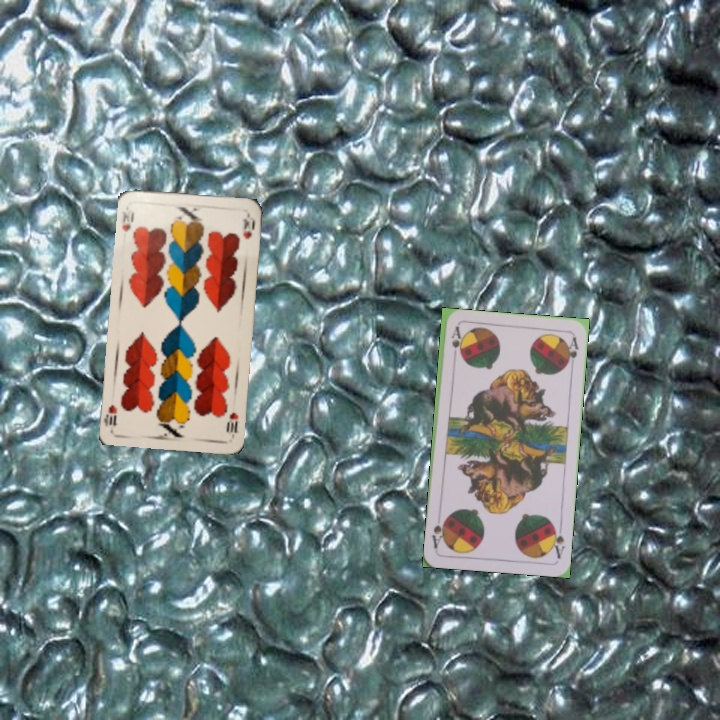H10: (222, 409, 241, 440), (118, 206, 136, 234)
SA: (548, 520, 568, 561), (447, 323, 463, 364)
